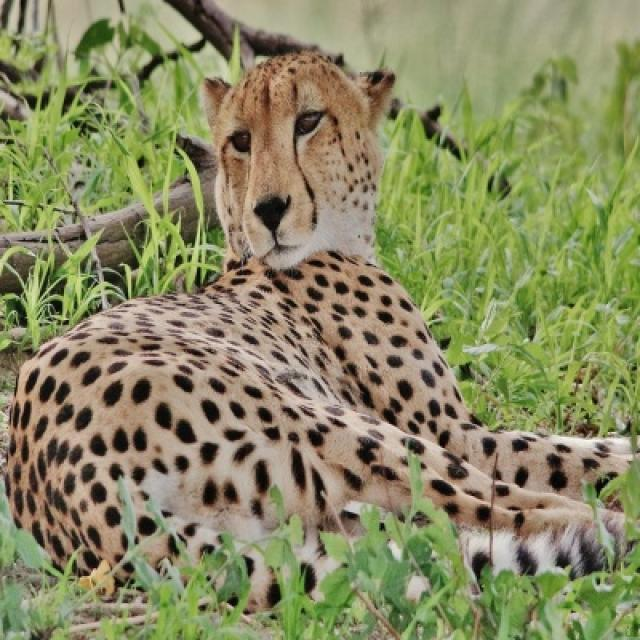Cheetah: (11, 50, 635, 606)
